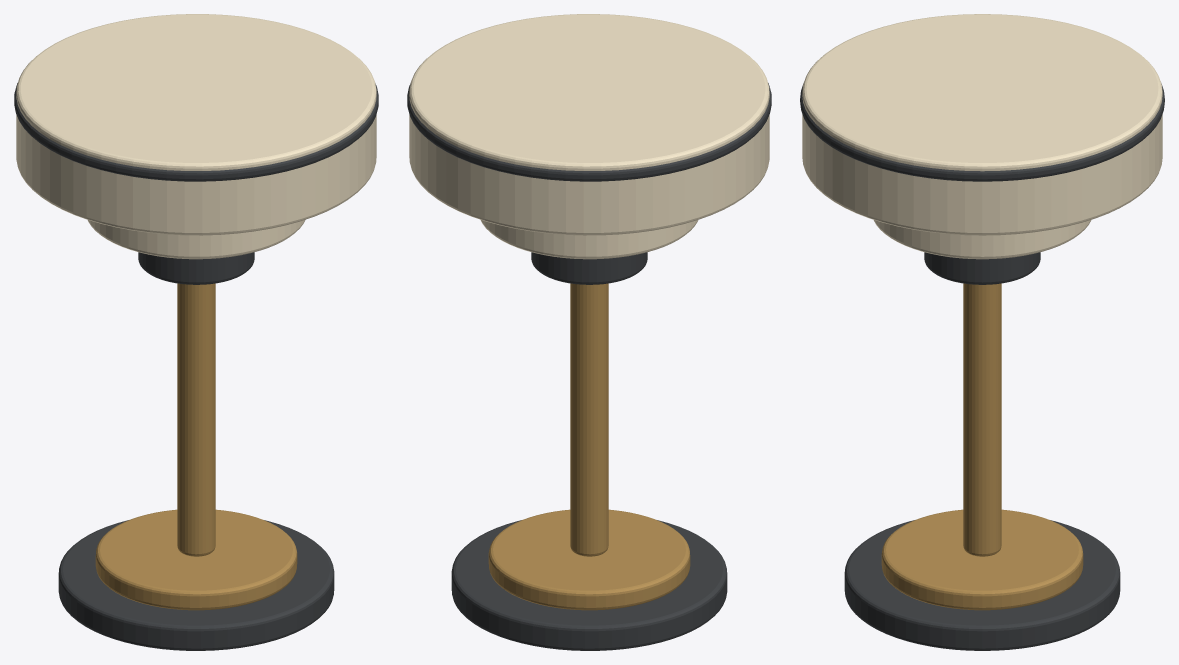
Rendered from minimal-table-lamp-01.glb.
The picture shows the model from 3 angles, left to right: view 1: azimuth 30°, elevation 25°; view 2: azimuth 150°, elevation 25°; view 3: azimuth 270°, elevation 25°; orthographic projection.
Visible parts, largest first — view 1: minimal-table-lamp-01; view 2: minimal-table-lamp-01; view 3: minimal-table-lamp-01.
Part boxes in pixels (bbox=[...]): minimal-table-lamp-01: bbox=[14, 14, 378, 650]; minimal-table-lamp-01: bbox=[407, 14, 771, 650]; minimal-table-lamp-01: bbox=[800, 14, 1164, 650].
Size of the model in its own units: 0.344 by 0.526 by 0.344.
